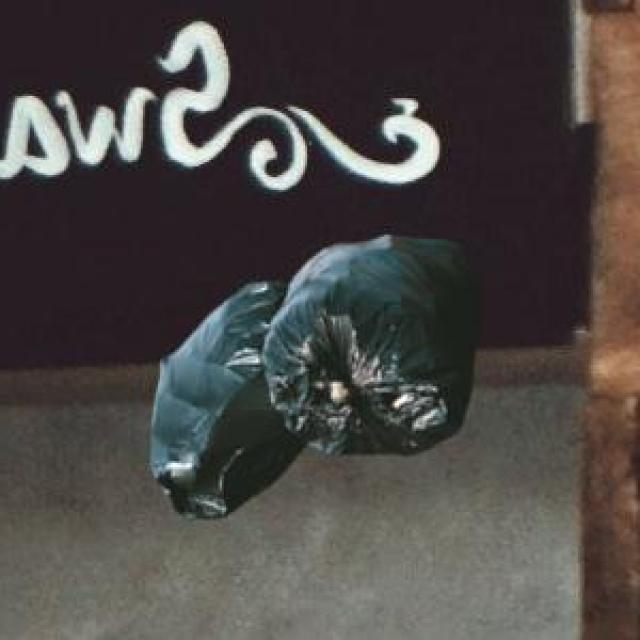Trashbag: (264, 223, 494, 467), (142, 271, 284, 530)
